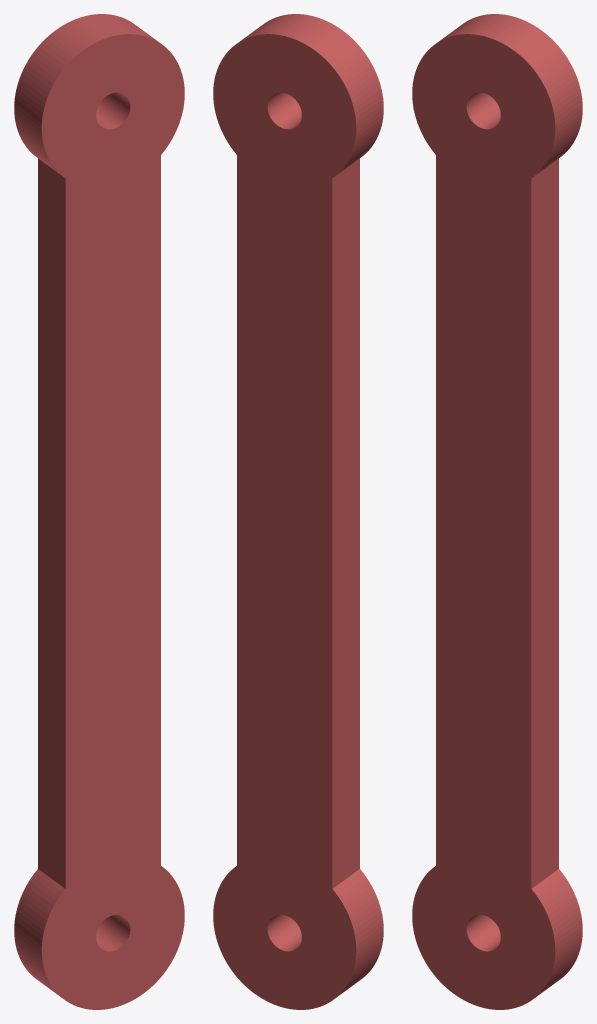
File: ali_biela.glb
The picture shows the model from 3 angles, left to right: view 1: azimuth 30°, elevation 25°; view 2: azimuth 150°, elevation 25°; view 3: azimuth 330°, elevation 25°; orthographic projection.
Visible parts, largest first — view 1: world; view 2: world; view 3: world.
Part boxes in pixels (x1,y1,x2,y2): world: [14, 14, 184, 1009]; world: [213, 14, 383, 1009]; world: [412, 14, 582, 1009].
Bounding box in the file's own units: 18 × 117 × 6.
